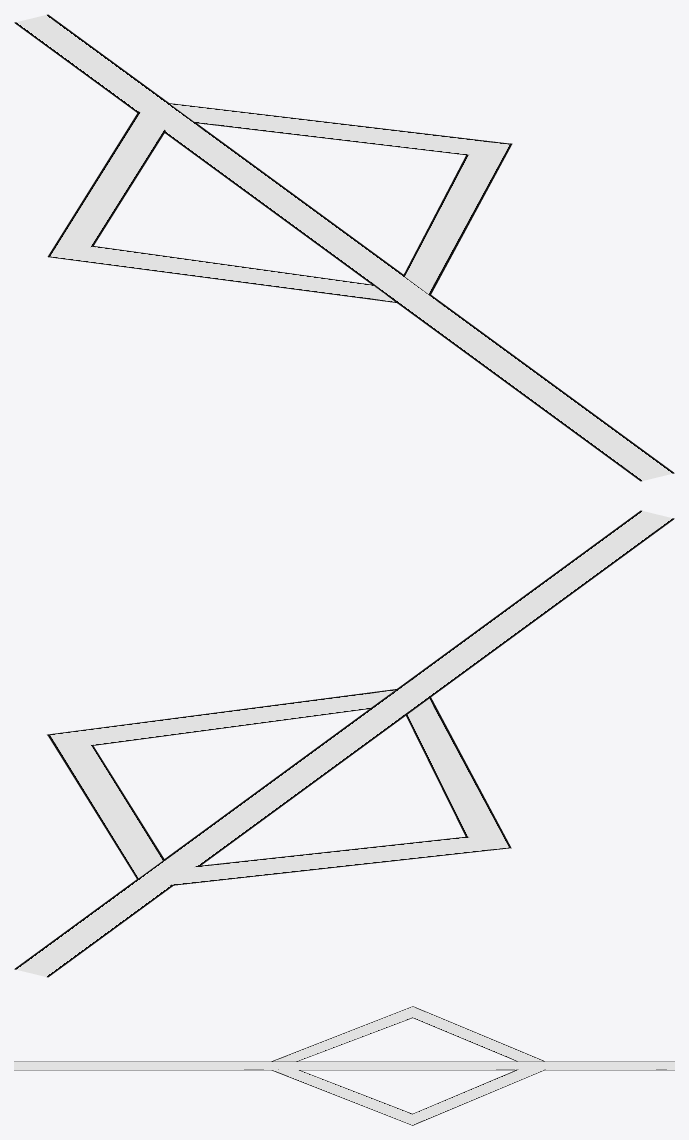
Rendered from Bridge 2.fbx.
The picture shows the model from 3 angles, top to bottom: view 1: azimuth 30°, elevation 25°; view 2: azimuth 150°, elevation 25°; view 3: azimuth 270°, elevation 25°; orthographic projection. The views are drawn at different scales.
Parts seen in each view (by area): view 1: Plane; view 2: Plane; view 3: Plane.
Boxes of the visible parts, <box> form: Plane: <box>14,14,674,481</box>; Plane: <box>14,510,674,977</box>; Plane: <box>14,1006,674,1125</box>.
Size of the model in its own units: 2719 by 6.19 by 6343.
